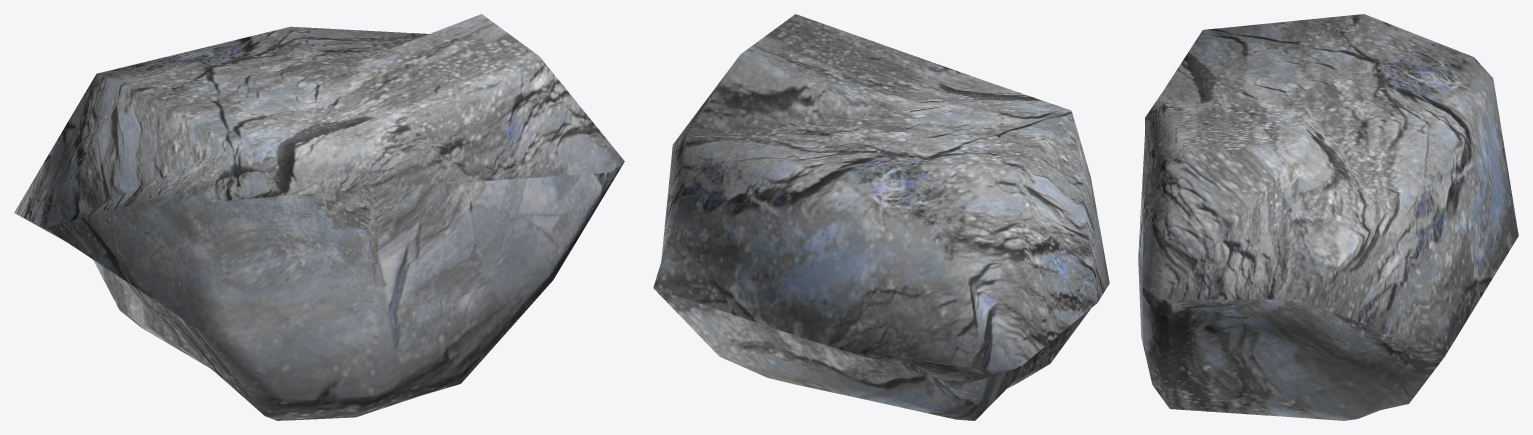
Rendered from forest ground rock1.fbx.
The picture shows the model from 3 angles, left to right: view 1: azimuth 30°, elevation 25°; view 2: azimuth 150°, elevation 25°; view 3: azimuth 270°, elevation 25°; orthographic projection. The views are drawn at different scales.
Parts seen in each view (by area): view 1: Cube_001; view 2: Cube_001; view 3: Cube_001.
Part boxes in pixels (x1,y1,x2,y2): Cube_001: (14, 14, 624, 420); Cube_001: (653, 14, 1109, 420); Cube_001: (1138, 14, 1518, 420).
Size of the model in its own units: 0.7028 by 0.4426 by 0.4873.
